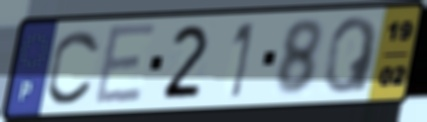1: (228, 20, 257, 101)
2: (160, 23, 213, 102)
8: (274, 16, 325, 100)
C: (44, 27, 104, 108)
E: (91, 21, 160, 110)
Q: (321, 14, 381, 97)
